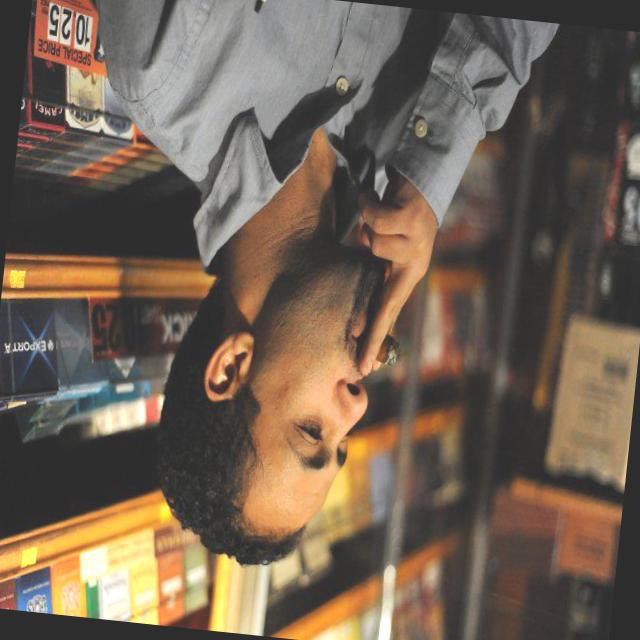smoke: (330, 309, 412, 393)
